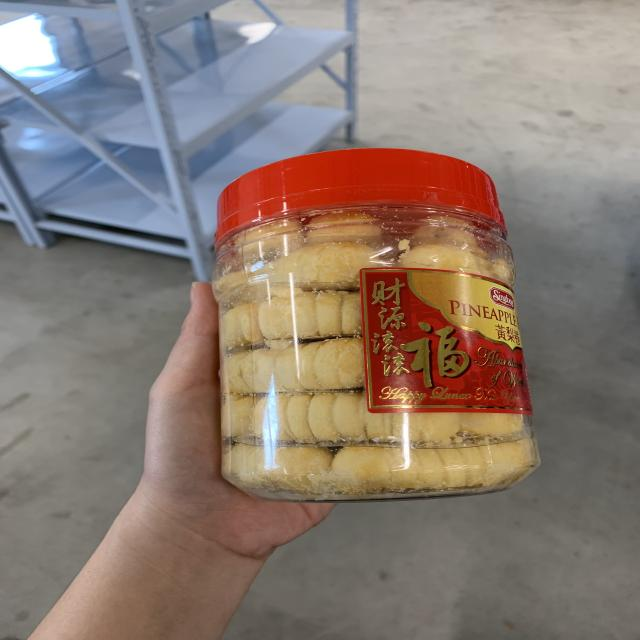object_name: (219, 183, 533, 487)
